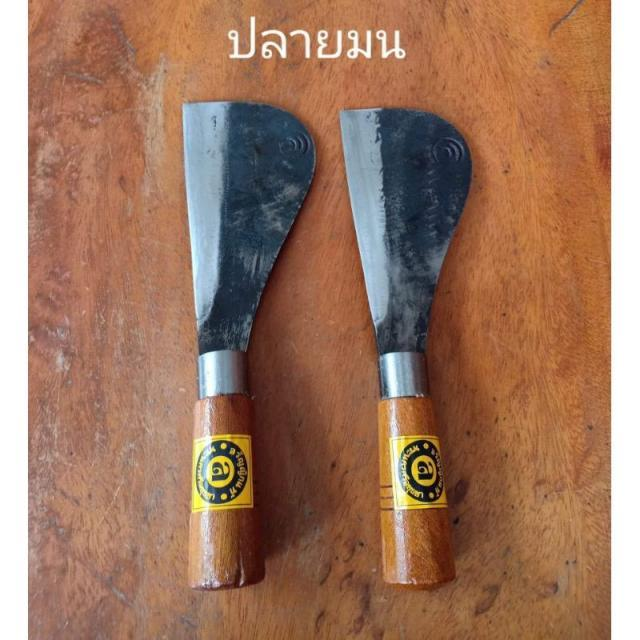eto: (180, 95, 328, 599), (331, 101, 481, 594), (336, 99, 477, 595)
